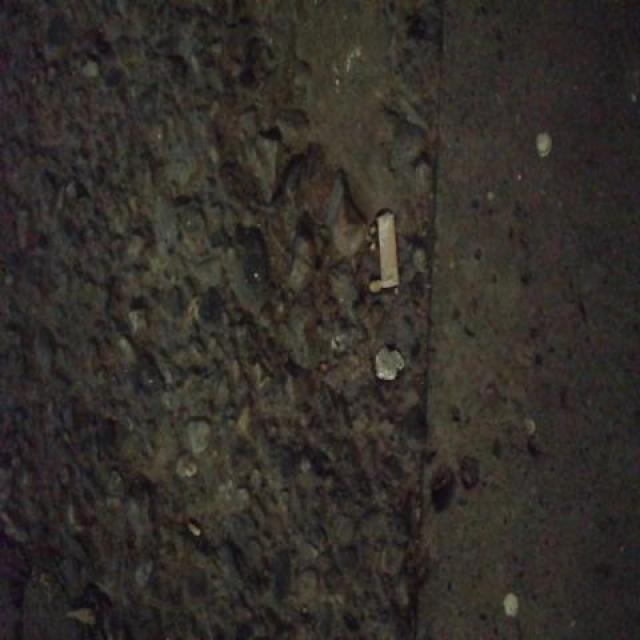non-organic waste: (373, 207, 404, 294)
